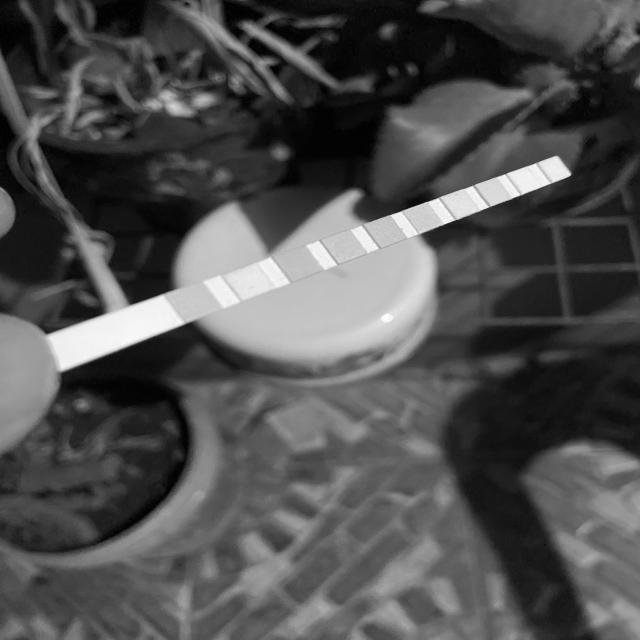Bilirubin: (236, 271, 264, 293)
Blood: (375, 222, 397, 242)
Glucose: (179, 290, 211, 313)
Ketone: (286, 253, 312, 274)
Leukocytes: (546, 160, 562, 177)
Nitrite: (514, 172, 536, 187)
Protein: (452, 194, 469, 212)
SpGravity: (333, 236, 357, 257)
Urobilinogen: (485, 182, 503, 199)
background: (0, 0, 640, 640)
pH: (412, 208, 434, 226)
strip: (51, 155, 573, 367)
